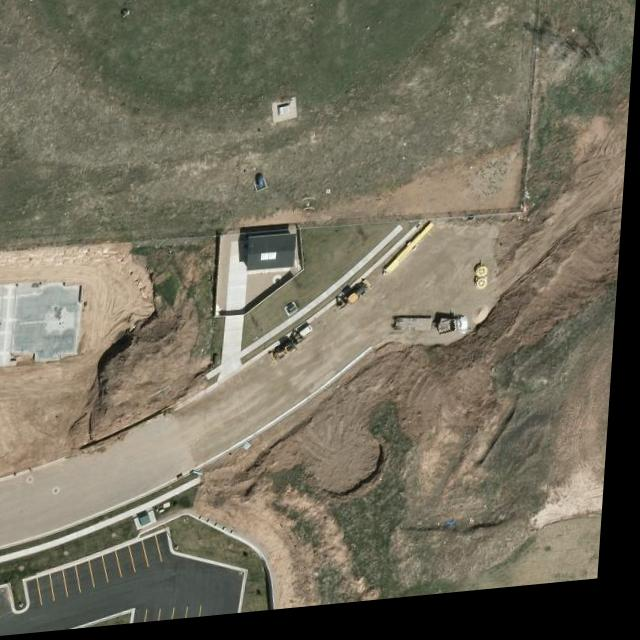vehicle: (442, 323, 476, 350)
